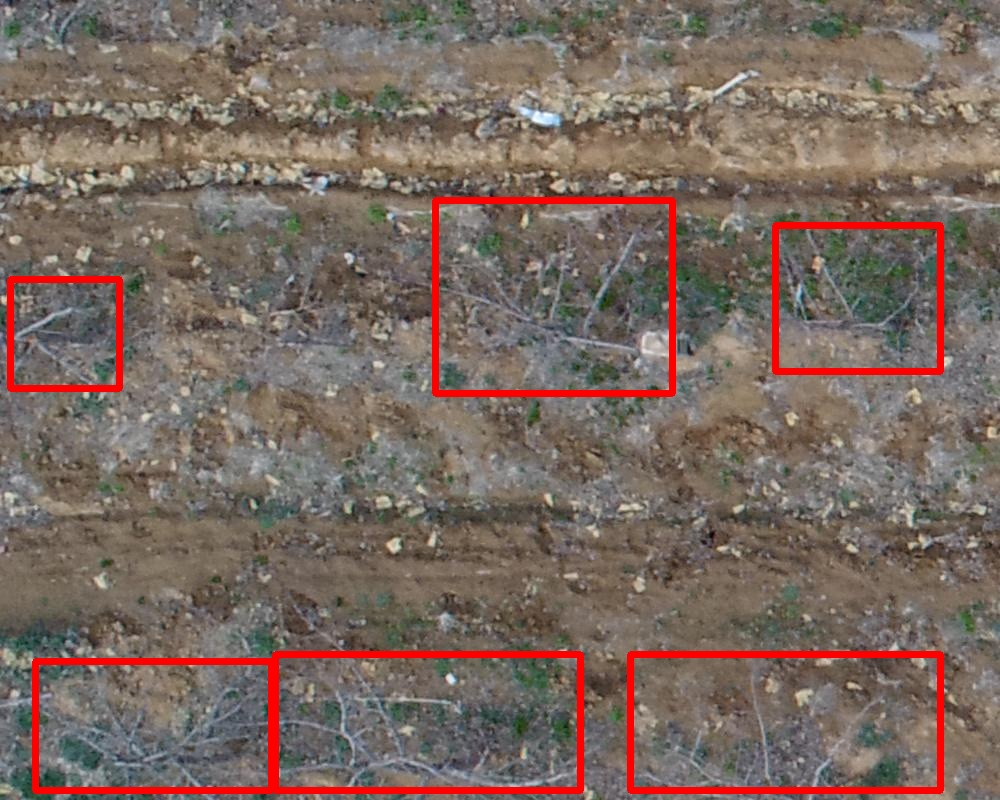apple: (435, 200, 672, 393), (630, 654, 940, 790), (275, 654, 580, 790), (35, 661, 271, 790), (775, 225, 940, 371), (10, 279, 119, 388)
